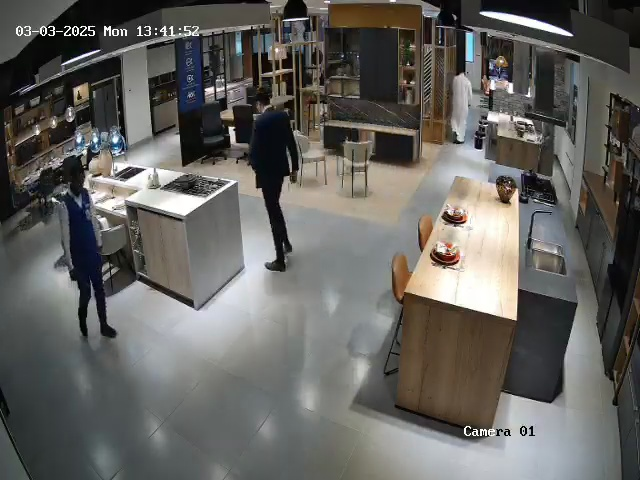employee: (56, 156, 118, 339), (248, 95, 301, 272)
male: (528, 118, 567, 185), (450, 67, 473, 145)
